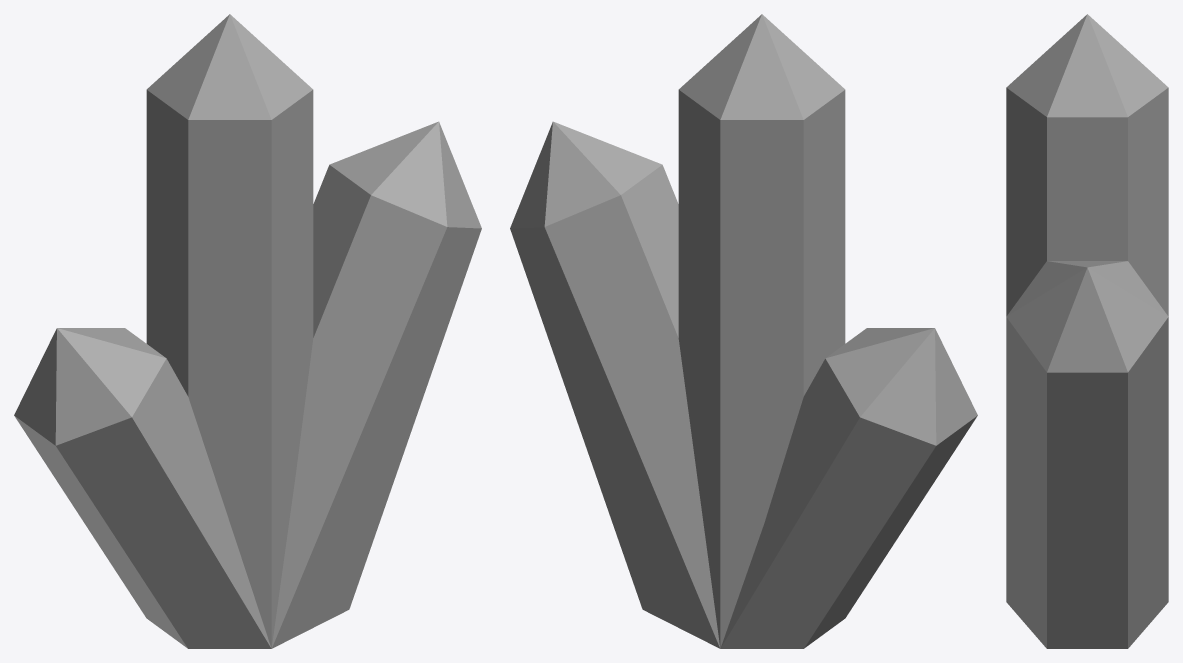
Rendered from light_gray_cave_crystal.obj.
The picture shows the model from 3 angles, left to right: view 1: azimuth 30°, elevation 25°; view 2: azimuth 150°, elevation 25°; view 3: azimuth 270°, elevation 25°; orthographic projection. The views are drawn at different scales.
Visible parts, largest first — view 1: main; view 2: main; view 3: main.
Part boxes in pixels (<box>): main: <box>14,14,481,648</box>; main: <box>510,14,977,648</box>; main: <box>1006,14,1168,648</box>.
Size of the model in its own units: 0.7381 by 1 by 0.25.
